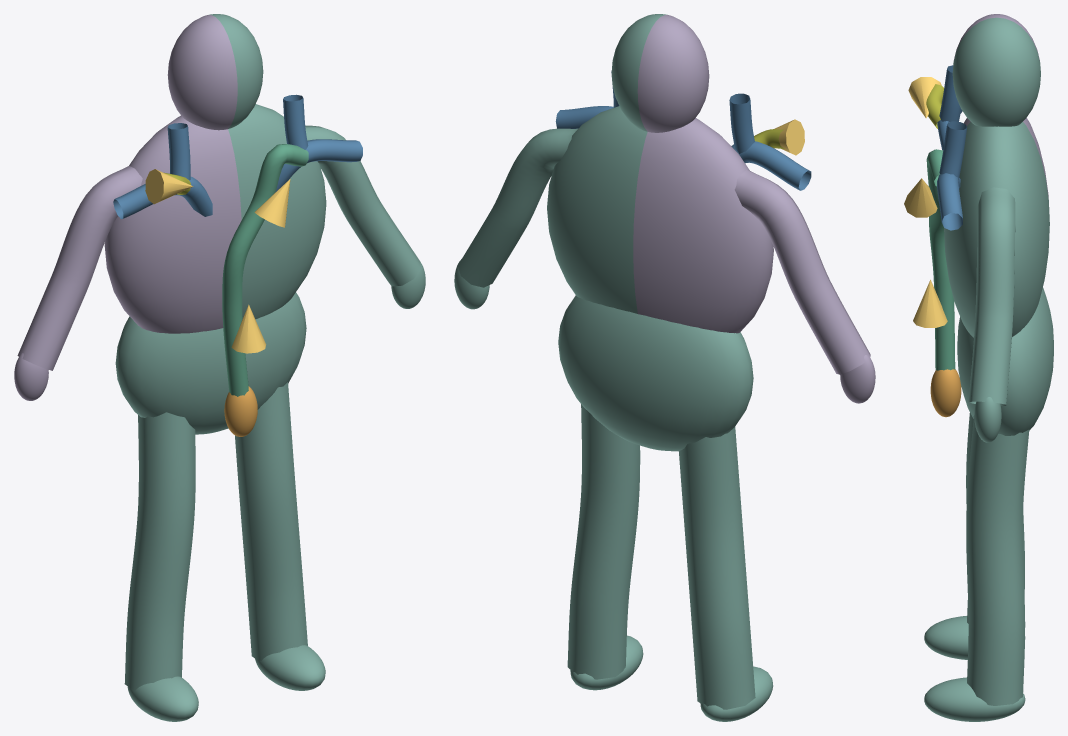
The model's file is lymph-drainage.glb.
The picture shows the model from 3 angles, left to right: view 1: azimuth 30°, elevation 25°; view 2: azimuth 150°, elevation 25°; view 3: azimuth 270°, elevation 25°; orthographic projection. The views are drawn at different scales.
Parts seen in each view (by area): view 1: thoracic_duct_territory, right_upper_quadrant, thoracic_duct, flow_arrows, right_venous_angle, left_venous_angle, cisterna_chyli; view 2: thoracic_duct_territory, right_upper_quadrant, right_venous_angle, left_venous_angle, flow_arrows; view 3: thoracic_duct_territory, thoracic_duct, flow_arrows, left_venous_angle, cisterna_chyli, right_venous_angle, right_upper_quadrant, right_lymphatic_duct.
Boxes of the visible parts, bbox=[...] form: thoracic_duct_territory: bbox=[115, 14, 425, 721]; right_upper_quadrant: bbox=[14, 15, 241, 400]; thoracic_duct: bbox=[222, 144, 308, 396]; flow_arrows: bbox=[145, 169, 290, 353]; right_venous_angle: bbox=[113, 123, 212, 219]; left_venous_angle: bbox=[275, 94, 362, 191]; cisterna_chyli: bbox=[224, 386, 257, 436]; thoracic_duct_territory: bbox=[454, 14, 773, 721]; right_upper_quadrant: bbox=[633, 15, 875, 403]; right_venous_angle: bbox=[729, 93, 811, 190]; left_venous_angle: bbox=[555, 71, 619, 128]; flow_arrows: bbox=[774, 119, 804, 155]; thoracic_duct_territory: bbox=[924, 17, 1053, 721]; thoracic_duct: bbox=[926, 149, 955, 370]; flow_arrows: bbox=[904, 77, 947, 327]; left_venous_angle: bbox=[937, 121, 966, 230]; cisterna_chyli: bbox=[930, 369, 961, 417]; right_venous_angle: bbox=[937, 65, 962, 150]; right_upper_quadrant: bbox=[953, 14, 1048, 197]; right_lymphatic_duct: bbox=[926, 84, 944, 128].
Bounding box in the file's own units: 2.13 × 3.34 × 0.6784.
